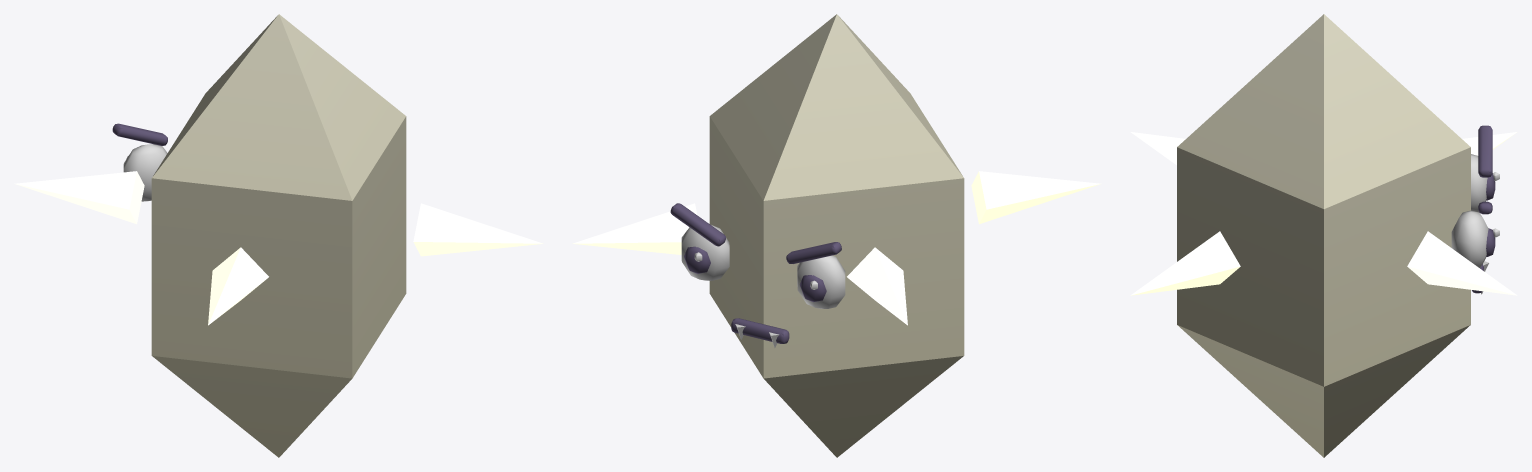
Rendered from art_c_spark.glb.
The picture shows the model from 3 angles, left to right: view 1: azimuth 30°, elevation 25°; view 2: azimuth 150°, elevation 25°; view 3: azimuth 270°, elevation 25°; orthographic projection.
Parts seen in each view (by area): view 1: Body, Glow_FFE066, Eye; view 2: Body, Glow_FFE066, Eye, Mouth; view 3: Body, Glow_FFE066, Eye.
Boxes of the visible parts, x1,y1,x2,y2 form: Body: [151, 14, 406, 457]; Glow_FFE066: [14, 171, 543, 325]; Eye: [112, 123, 167, 201]; Body: [709, 14, 964, 457]; Glow_FFE066: [572, 171, 1101, 325]; Eye: [670, 203, 845, 308]; Mouth: [731, 318, 789, 347]; Body: [1177, 14, 1470, 457]; Glow_FFE066: [1130, 132, 1517, 295]; Eye: [1451, 125, 1499, 267].
Bounding box in the file's own units: 0.792 × 1 × 0.792.
